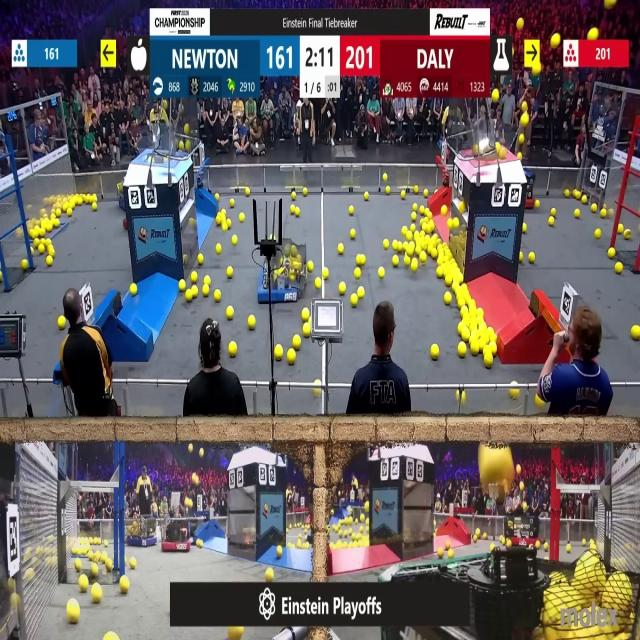ball_airborne: (496, 449, 512, 474), (481, 459, 494, 484), (552, 34, 562, 48), (589, 29, 599, 41), (522, 112, 530, 126), (532, 62, 540, 76), (498, 147, 506, 159), (492, 90, 500, 102), (604, 0, 614, 9), (184, 498, 192, 508), (472, 144, 478, 156), (522, 102, 528, 113), (191, 472, 197, 483), (178, 142, 186, 150), (518, 20, 524, 30), (201, 446, 207, 456), (519, 135, 525, 144), (184, 126, 189, 136), (523, 502, 528, 512), (517, 464, 522, 474), (516, 152, 522, 160), (520, 483, 525, 492), (150, 114, 154, 123)
ball_ground: (68, 603, 80, 625), (93, 586, 103, 604), (78, 578, 88, 592), (484, 353, 494, 367), (469, 342, 479, 356), (120, 578, 128, 594), (292, 336, 300, 351), (303, 323, 312, 336), (407, 243, 416, 256), (430, 345, 438, 359), (287, 350, 295, 364), (230, 343, 238, 357), (267, 568, 275, 581), (275, 346, 283, 359), (458, 344, 466, 357), (92, 563, 100, 576), (225, 306, 232, 320), (632, 325, 639, 339), (59, 317, 67, 329), (184, 290, 192, 302), (248, 316, 255, 329), (303, 309, 310, 322), (340, 282, 347, 294), (392, 241, 400, 251), (357, 254, 365, 264), (511, 388, 519, 398), (435, 269, 443, 279), (445, 276, 453, 286), (535, 398, 543, 408), (426, 222, 434, 232), (179, 280, 186, 291), (322, 269, 329, 280), (315, 278, 322, 289), (357, 287, 364, 298), (351, 294, 358, 305), (190, 286, 197, 297), (420, 252, 427, 263), (462, 329, 469, 340), (617, 264, 623, 276), (226, 268, 232, 280), (214, 290, 220, 302), (446, 292, 452, 304), (277, 548, 283, 560), (76, 198, 84, 207), (354, 269, 361, 279), (131, 284, 138, 294), (412, 262, 419, 272), (22, 261, 29, 271), (105, 633, 115, 640), (484, 345, 491, 355), (453, 218, 460, 228), (460, 308, 467, 318), (430, 248, 437, 258), (204, 285, 210, 296), (608, 248, 614, 259), (392, 255, 398, 266), (46, 255, 52, 266), (459, 202, 465, 213), (46, 247, 53, 256), (38, 245, 45, 254), (596, 230, 602, 240), (380, 269, 386, 279), (529, 252, 535, 262), (190, 273, 196, 283), (339, 244, 345, 254), (448, 550, 454, 560), (132, 558, 138, 568), (199, 254, 205, 264), (350, 230, 356, 240), (403, 255, 409, 265), (76, 560, 82, 570), (439, 549, 445, 559), (491, 345, 497, 355), (107, 560, 113, 570), (458, 296, 464, 306), (402, 242, 408, 252), (204, 276, 211, 284), (85, 195, 92, 203), (572, 189, 579, 197), (443, 207, 449, 216), (412, 212, 418, 221), (547, 217, 553, 226), (625, 231, 631, 240), (348, 206, 354, 215), (401, 225, 407, 234), (592, 204, 598, 213), (600, 209, 606, 218), (425, 208, 431, 217), (182, 254, 188, 263), (90, 553, 96, 562), (56, 209, 62, 218), (216, 244, 221, 254), (384, 240, 389, 250), (216, 214, 221, 224), (459, 275, 464, 285), (448, 218, 453, 228), (416, 246, 421, 256), (551, 208, 557, 216), (564, 189, 570, 197), (534, 201, 540, 209), (420, 207, 426, 215), (411, 223, 417, 231), (221, 222, 227, 230), (580, 197, 586, 205), (566, 544, 572, 552), (195, 539, 201, 547), (478, 309, 484, 317), (414, 185, 420, 193), (309, 263, 314, 272), (233, 237, 238, 246), (240, 213, 245, 222), (457, 324, 462, 333), (93, 192, 98, 201), (364, 502, 369, 511), (290, 191, 296, 198), (436, 259, 442, 266), (244, 188, 250, 195), (30, 247, 36, 254), (363, 191, 368, 199), (93, 204, 98, 212), (574, 210, 579, 218), (229, 201, 234, 209), (413, 204, 418, 212), (456, 391, 461, 399), (447, 540, 452, 548), (34, 240, 39, 248), (408, 233, 413, 241), (56, 219, 61, 227), (491, 335, 496, 343), (506, 539, 511, 547), (296, 540, 301, 548), (523, 223, 527, 232), (68, 208, 72, 217), (520, 253, 524, 262), (214, 192, 220, 198), (304, 188, 309, 195), (489, 327, 494, 334), (383, 174, 388, 181), (474, 529, 479, 536), (424, 188, 428, 196), (400, 190, 404, 198), (620, 224, 624, 232), (386, 186, 390, 194), (290, 206, 294, 214), (543, 542, 547, 550), (491, 543, 495, 551), (226, 218, 230, 226), (536, 540, 540, 548), (295, 208, 299, 216), (484, 536, 489, 542), (359, 526, 364, 532), (500, 536, 505, 542), (360, 516, 364, 523), (472, 535, 476, 541), (316, 380, 320, 386), (104, 540, 108, 546), (289, 542, 293, 548)
goal: (128, 128, 188, 162), (467, 124, 521, 160)
robot_blue: (258, 244, 308, 305), (128, 519, 158, 547)
robot_red: (505, 514, 544, 548), (162, 519, 194, 551)
